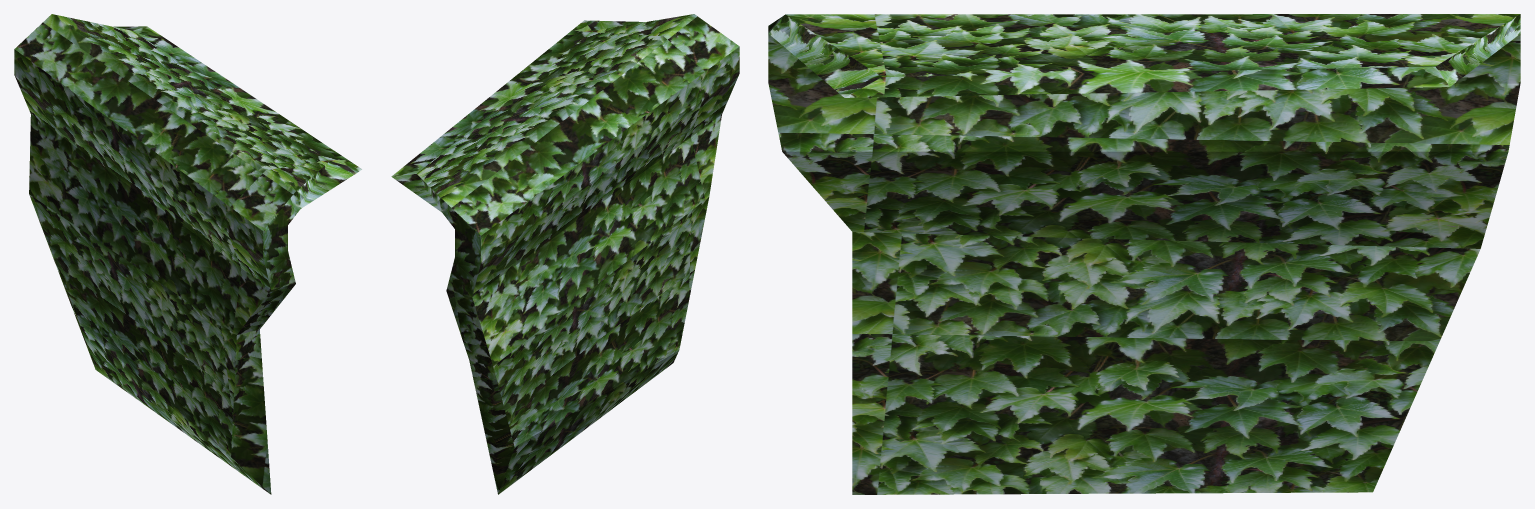
Rendered from hanginggrass.dae.
3 views of the same model, side by side, from view 1: azimuth 30°, elevation 25°; view 2: azimuth 150°, elevation 25°; view 3: azimuth 270°, elevation 25° (orthographic). The views are drawn at different scales.
Visible parts, largest first — view 1: Cube_001; view 2: Cube_001; view 3: Cube_001.
Boxes of the visible parts, box(x1,y1,x2,y2) form: Cube_001: box(14, 14, 361, 494); Cube_001: box(391, 14, 739, 494); Cube_001: box(768, 14, 1520, 494).
Size of the model in its own units: 1 by 3.46 by 2.45.
Materials: 1 (1 with a texture image).
